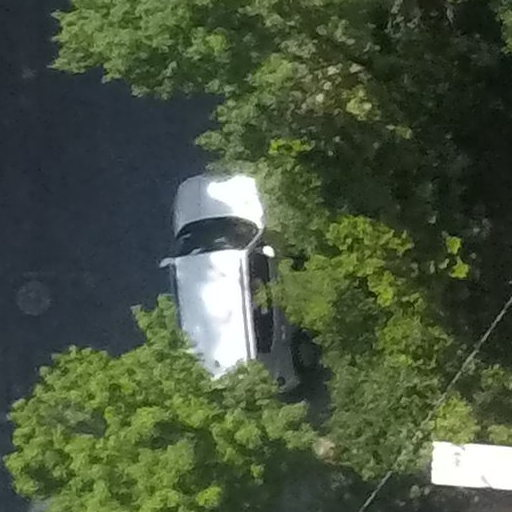car: (143, 138, 321, 397)
